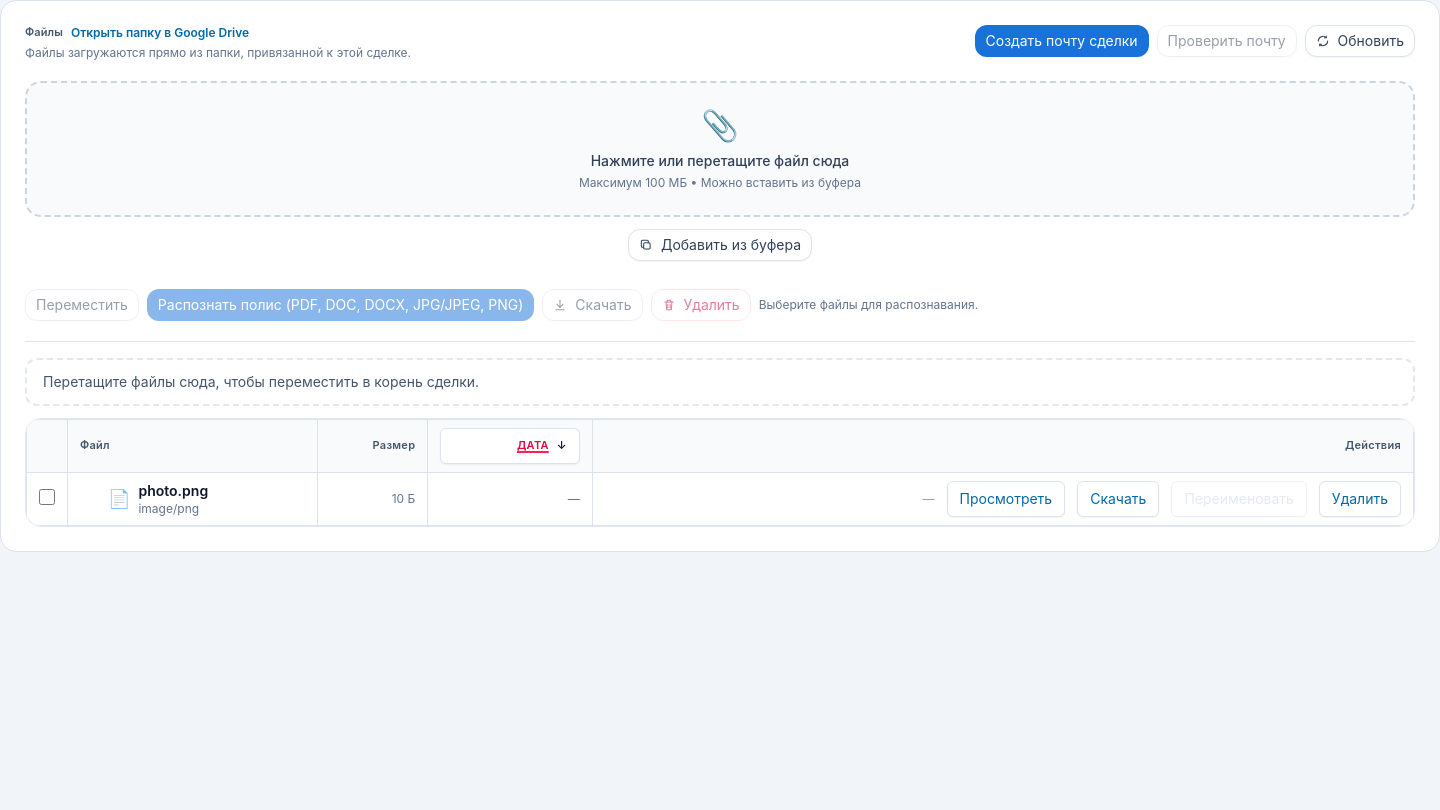
Scenario: FilesTab › disables preview rename controls while renaming
The image size is (1440, 810).
Click the button "Просмотреть" at (1006, 499), box [947,481,1065,517]
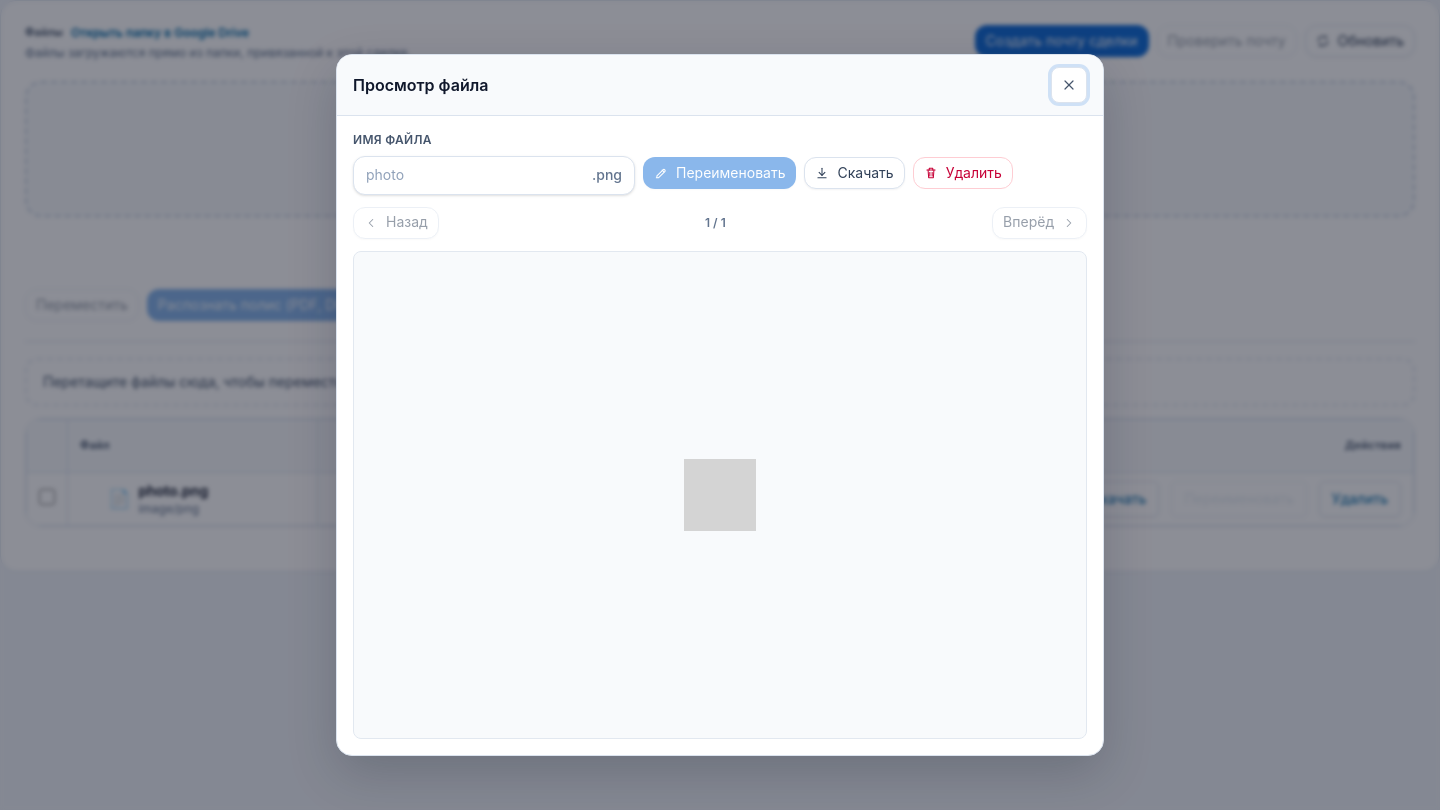
Expected: the field labelled "Имя файла" is disabled, [366,165,584,186]
Expected: the button "Переименовать" is disabled, [643,158,796,190]
